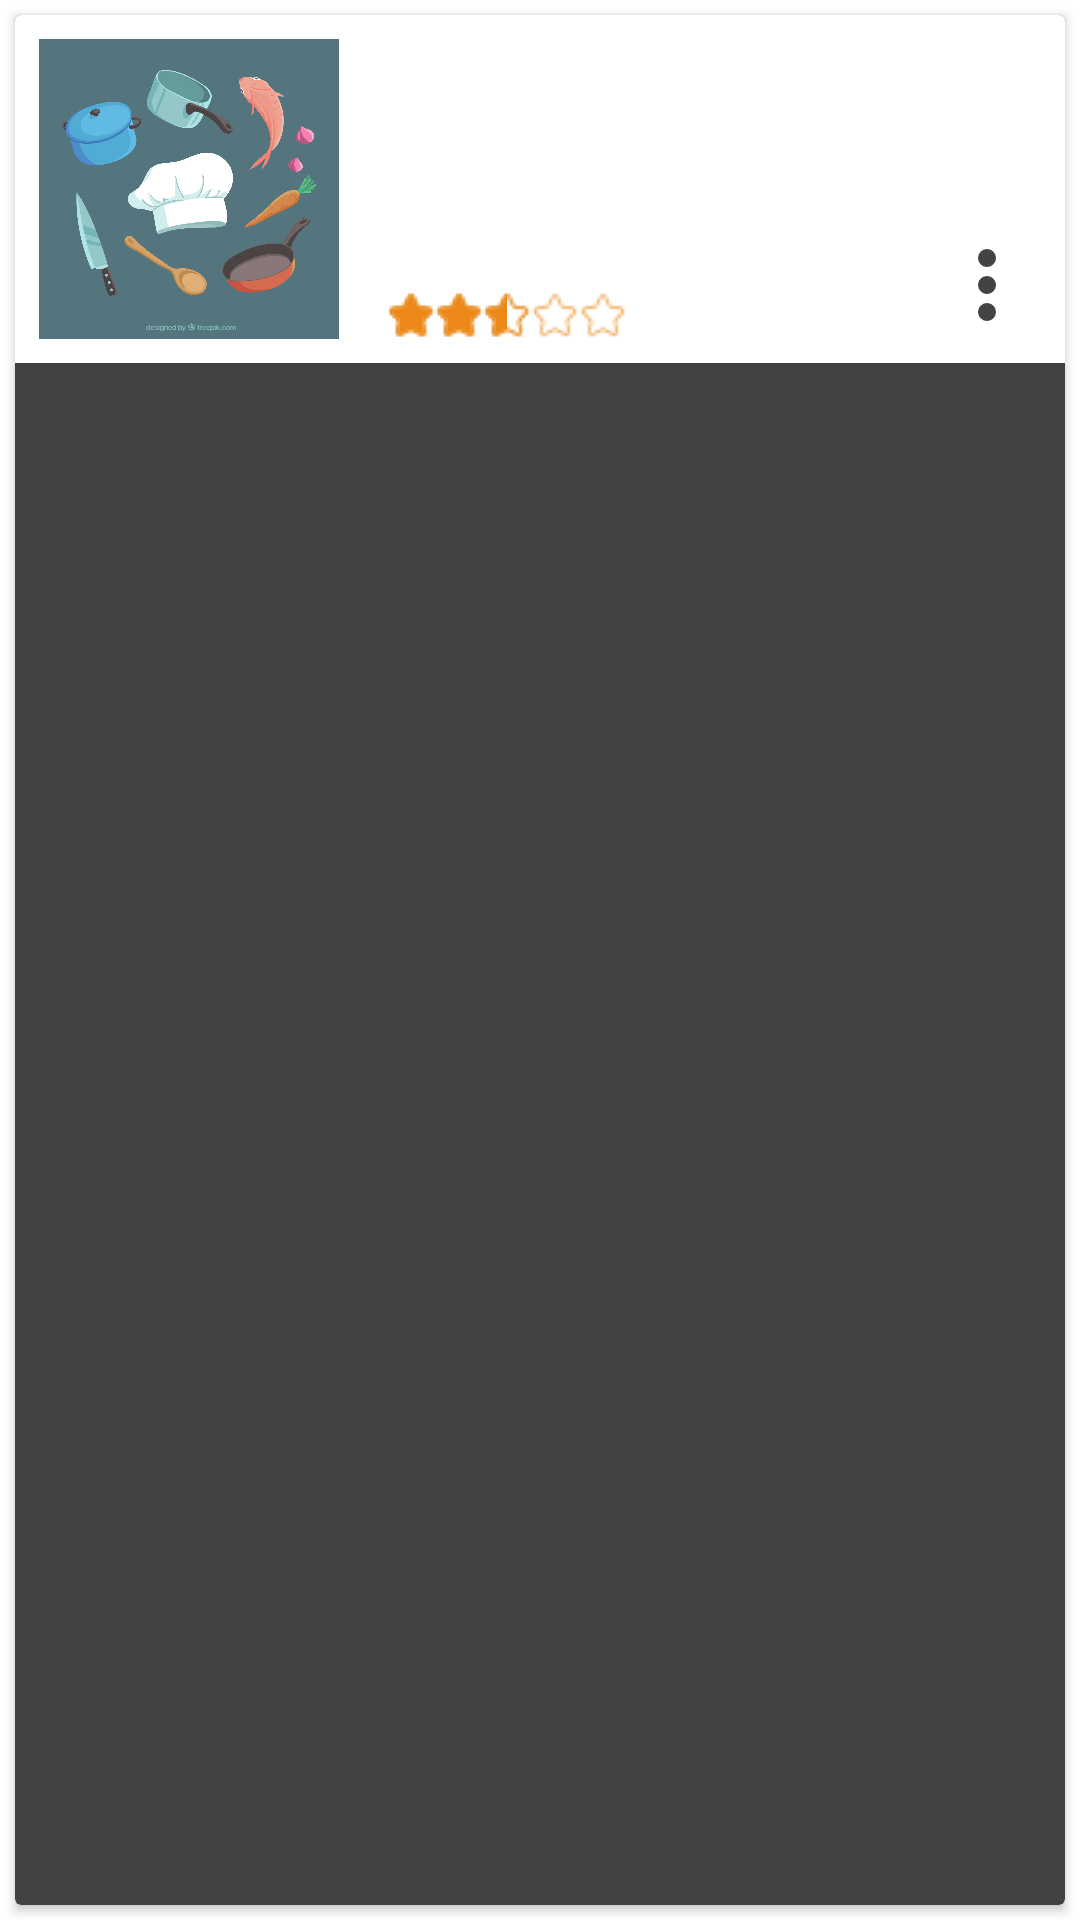

Icon click points for this 1080 × 1920 phone screenshot, format point (x, y):
more vertical: point (987, 285)
recipe card: point (189, 189)
